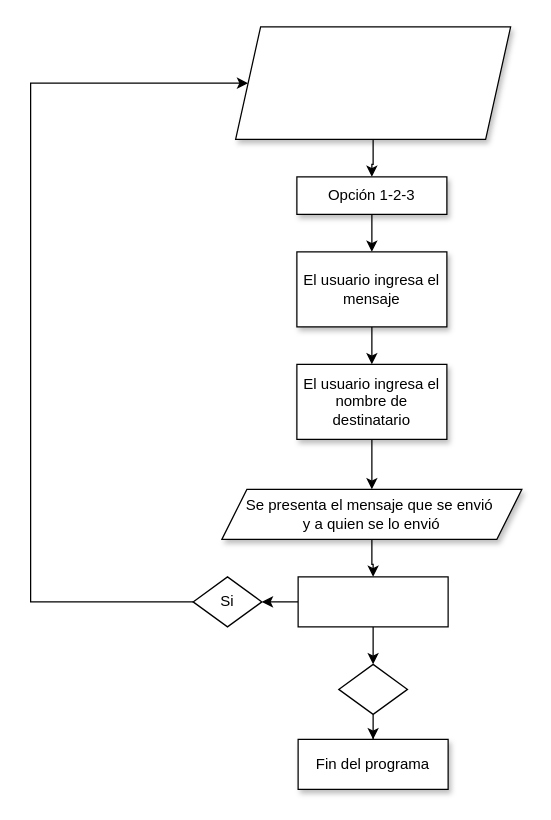
Some shapes in this 551 by 820 pixel diagram are drawn without their labels. The shapes that lost their labels are listed below. From the top down, each one's centre as x and y in pixels, then its label:
pixel 373 84: Selecciona el tipo de notificación: 1. Tipo Email 2. Tipo SMS 3. Tipo Push
pixel 372 601: ¿Enviar otro tipo?
pixel 373 688: No
